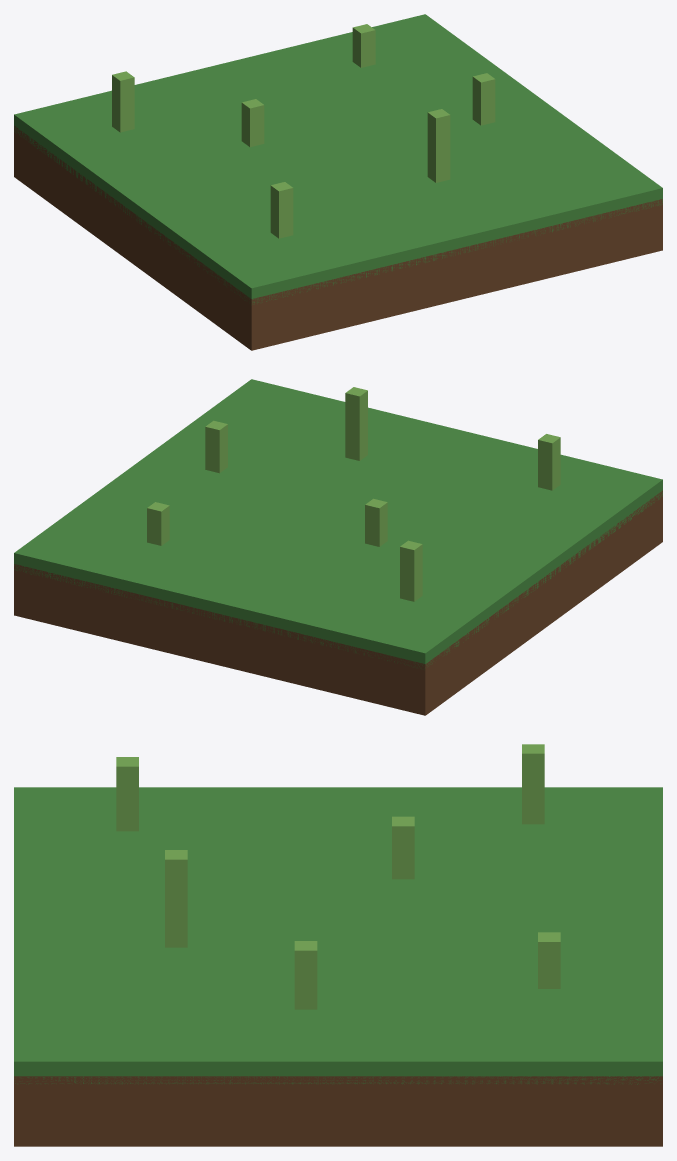
The model's file is grass_tile.obj.
The picture shows the model from 3 angles, top to bottom: view 1: azimuth 30°, elevation 25°; view 2: azimuth 150°, elevation 25°; view 3: azimuth 270°, elevation 25°; orthographic projection. The views are drawn at different scales.
Visible parts, largest first — view 1: grass_tile; view 2: grass_tile; view 3: grass_tile.
Boxes of the visible parts, left/top/right/bottom form: grass_tile: left=14, top=14, right=662, bottom=350; grass_tile: left=14, top=379, right=662, bottom=715; grass_tile: left=14, top=744, right=662, bottom=1146.
Size of the model in its own units: 2 by 0.62 by 2.
